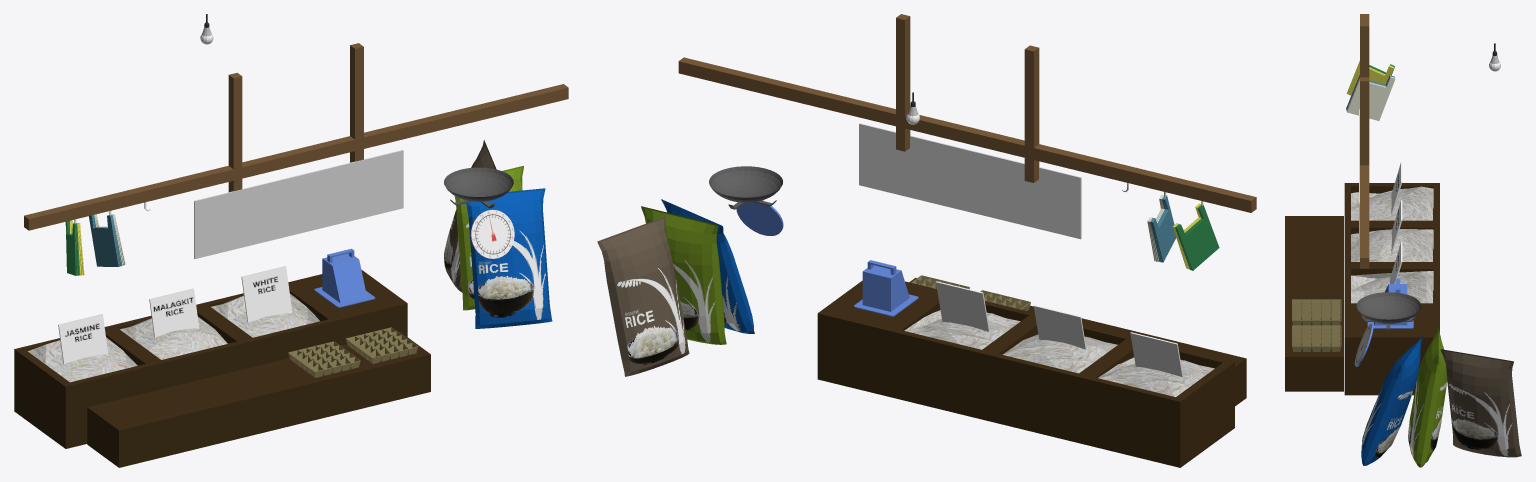
File: bigasan.fbx
The picture shows the model from 3 angles, left to right: view 1: azimuth 30°, elevation 25°; view 2: azimuth 150°, elevation 25°; view 3: azimuth 270°, elevation 25°; orthographic projection. The views are drawn at different scales.
Parts seen in each view (by area): view 1: table.001, table, stallname, bigasan, ricesack, Bigas.004, scale, Bigas.005, Sign.004, Bigas.003, Sphere.104, Sign.006 (+8 smaller); view 2: table, bigasan, stallname, ricesack.002, ricesack.001, ricesack, Bigas.004, scale, Bigas.005, Sphere.104, Bigas.003, Sign.004 (+6 smaller); view 3: table, table.001, ricesack.002, ricesack, ricesack.001, bigasan, Bigas.004, Bigas.005, Bigas.003, Sphere.104, Tray.002, Tray.003 (+7 smaller).
Boxes of the visible parts, bbox=[...] form: table.001: bbox=[87, 331, 430, 467]; table: bbox=[14, 269, 407, 448]; stallname: bbox=[194, 150, 403, 258]; bigasan: bbox=[24, 43, 568, 230]; ricesack: bbox=[465, 188, 552, 328]; Bigas.004: bbox=[120, 316, 227, 359]; scale: bbox=[314, 248, 375, 307]; Bigas.005: bbox=[27, 337, 137, 382]; Sign.004: bbox=[241, 266, 292, 322]; Bigas.003: bbox=[211, 294, 319, 337]; Sphere.104: bbox=[444, 167, 513, 201]; Sign.006: bbox=[58, 314, 108, 363]; table: bbox=[817, 280, 1234, 467]; bigasan: bbox=[678, 14, 1256, 212]; stallname: bbox=[859, 123, 1081, 239]; ricesack.002: bbox=[597, 216, 689, 376]; ricesack.001: bbox=[641, 206, 726, 344]; ricesack: bbox=[661, 199, 754, 333]; Bigas.004: bbox=[1002, 334, 1117, 373]; scale: bbox=[854, 260, 918, 316]; Bigas.005: bbox=[1098, 357, 1214, 396]; Sphere.104: bbox=[709, 166, 782, 202]; Bigas.003: bbox=[904, 310, 1020, 349]; Sign.004: bbox=[936, 281, 989, 331]; table: bbox=[1344, 183, 1439, 395]; table.001: bbox=[1285, 216, 1343, 391]; ricesack.002: bbox=[1440, 349, 1521, 457]; ricesack: bbox=[1361, 334, 1423, 465]; ricesack.001: bbox=[1408, 326, 1447, 467]; bigasan: bbox=[1360, 14, 1369, 268]; Bigas.004: bbox=[1351, 229, 1433, 261]; Bigas.005: bbox=[1351, 186, 1433, 220]; Bigas.003: bbox=[1351, 271, 1433, 303]; Sphere.104: bbox=[1356, 292, 1421, 323]; Tray.002: bbox=[1292, 325, 1341, 351]; Tray.003: bbox=[1292, 299, 1341, 325].
Bounding box in the file's own units: 10.41 × 5.98 × 4.27.
